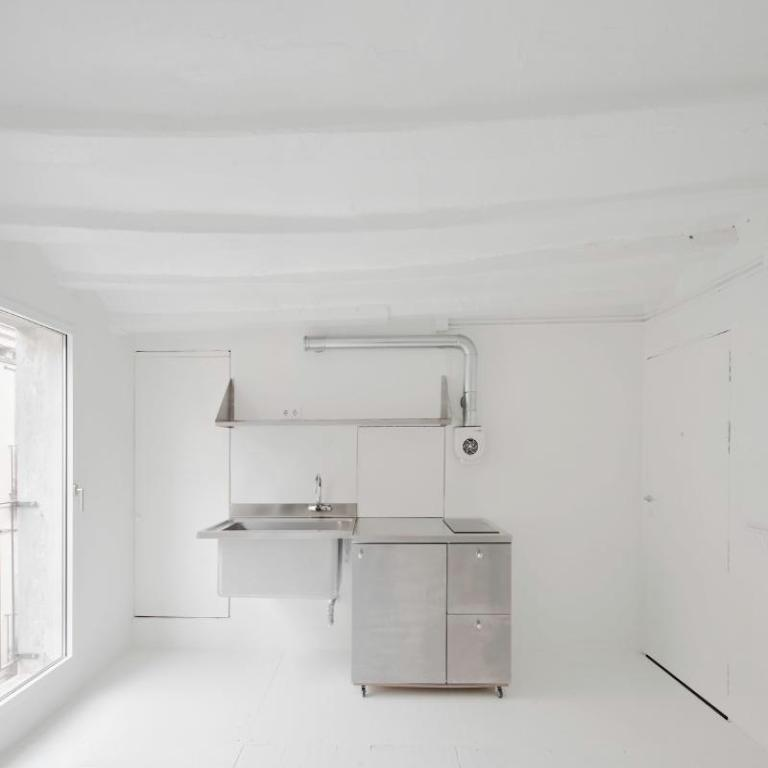white-walls: (510, 345, 624, 639)
